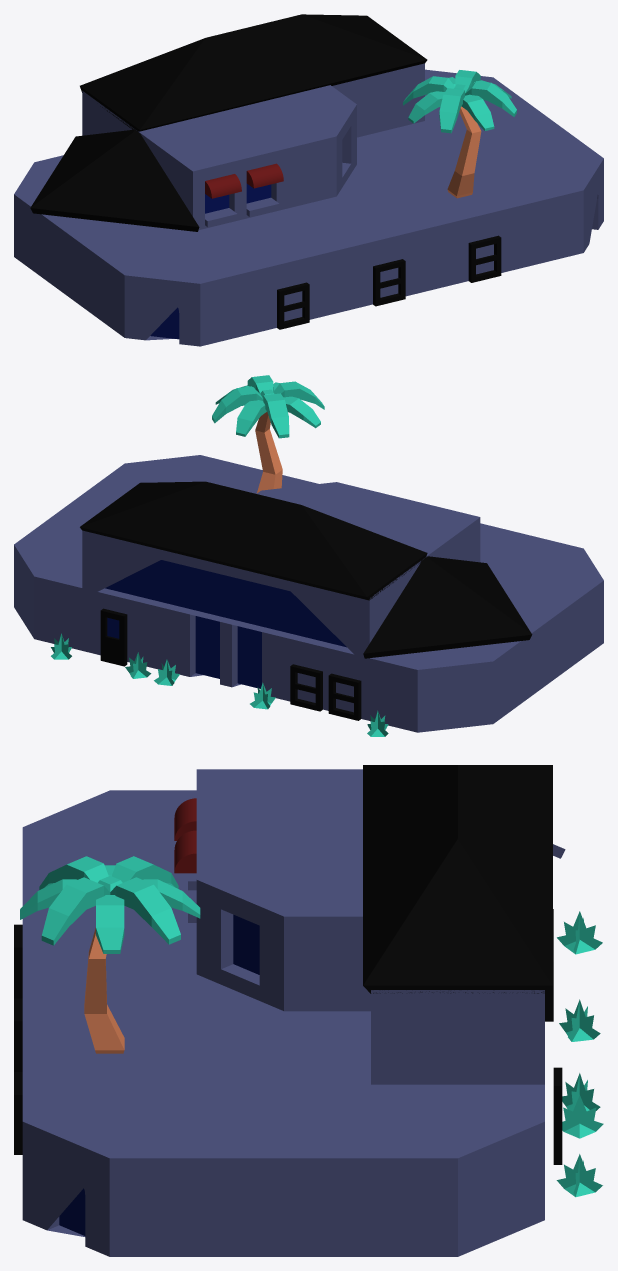
File: designer_villa.fbx
3 renders of one model, top to bottom at view 1: azimuth 30°, elevation 25°; view 2: azimuth 150°, elevation 25°; view 3: azimuth 270°, elevation 25°, orthographic. The views are drawn at different scales.
Parts seen in each view (by area): view 1: mergedBlocks; view 2: mergedBlocks; view 3: mergedBlocks.
Boxes of the visible parts, <box> form: mergedBlocks: <box>14,14,603,346</box>; mergedBlocks: <box>14,375,603,736</box>; mergedBlocks: <box>14,765,603,1256</box>.
Bounding box in the file's own units: 51.19 × 17.24 × 33.89.
